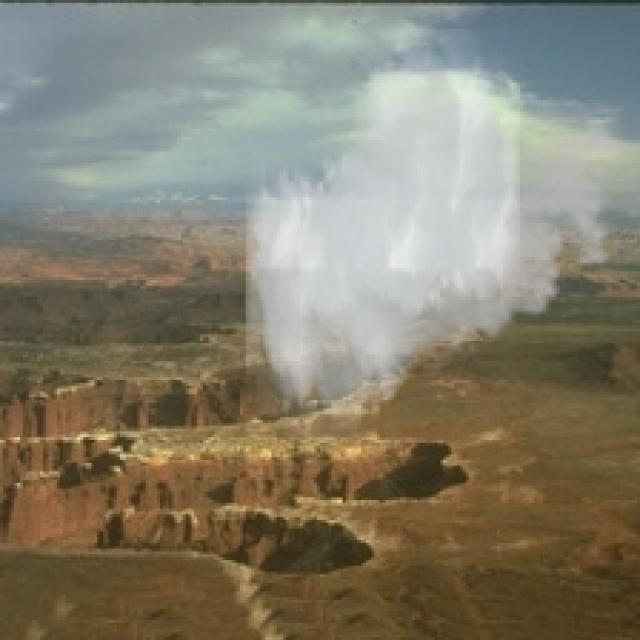smoke: (246, 29, 634, 440)
